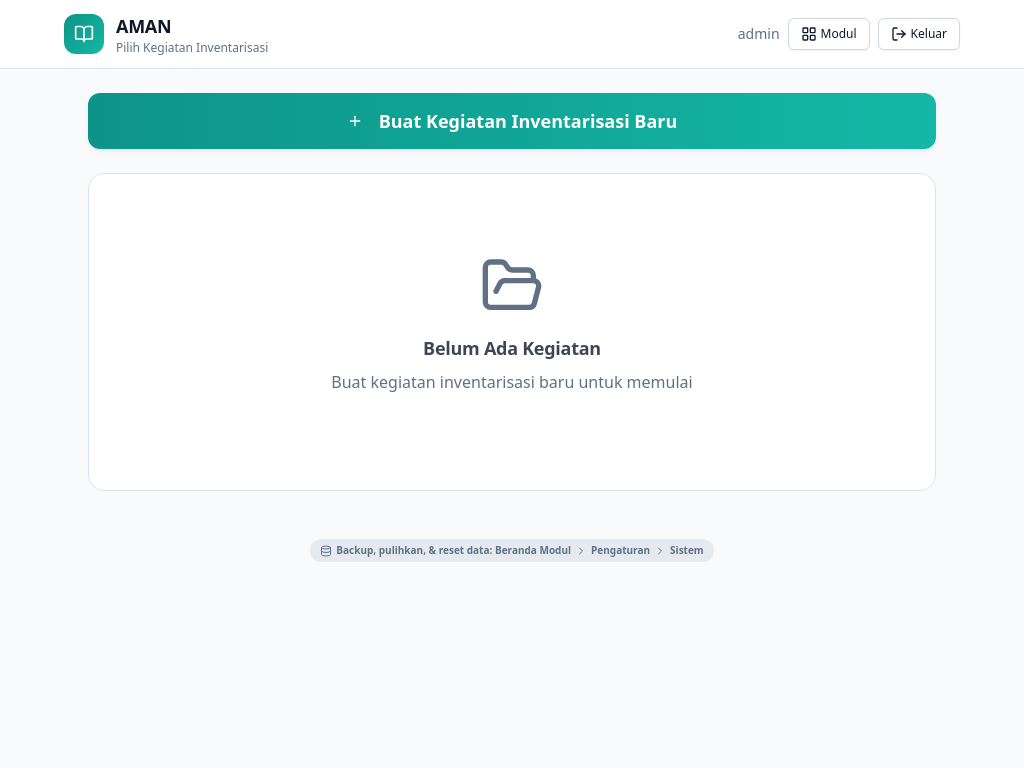
Test: baris pertama membawa tingkat KEDUA satkernya
The width and height of the screenshot is (1024, 768).
Click the button "Buat Kegiatan Inventarisasi Baru" at [512, 121], box x1=88 y1=93 x2=936 y2=149
(page scrolled)
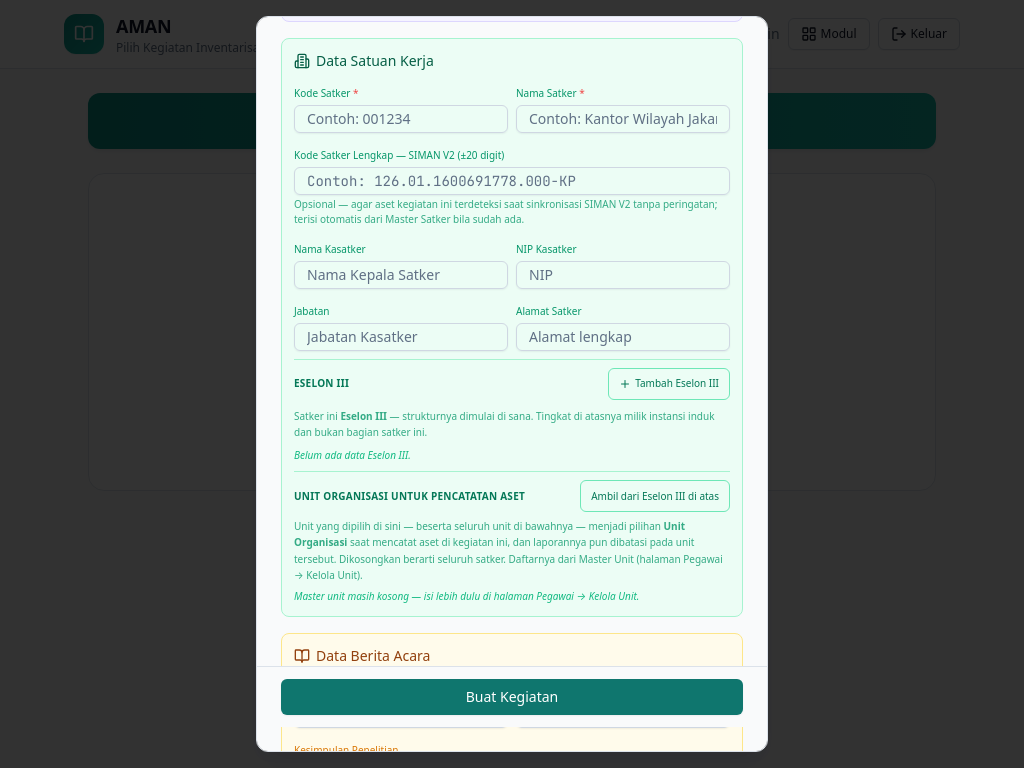
Click the button with test id "add-eselon1-btn" at [669, 384], box x1=608 y1=368 x2=730 y2=400
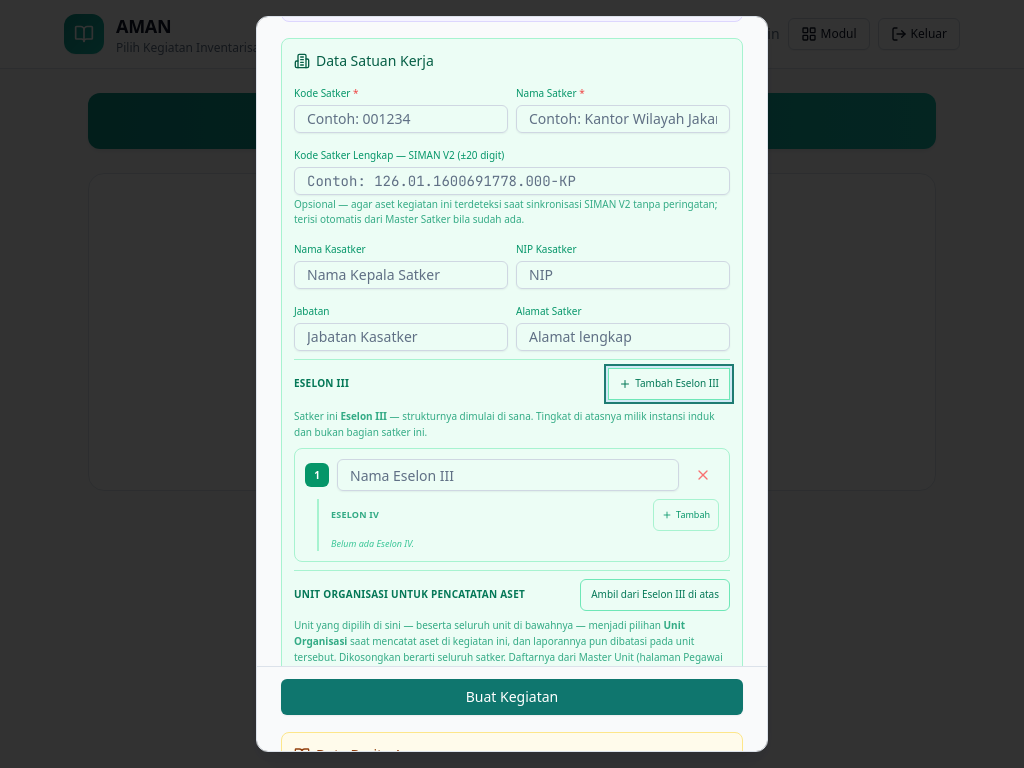
Result: the field with placeholder "Nama Eselon III" is shown at x1=337 y1=459 x2=679 y2=491
Result: the text "Eselon IV" is shown at x1=331 y1=508 x2=379 y2=522
Result: the text "Belum ada Eselon IV." is shown at x1=331 y1=537 x2=414 y2=550
